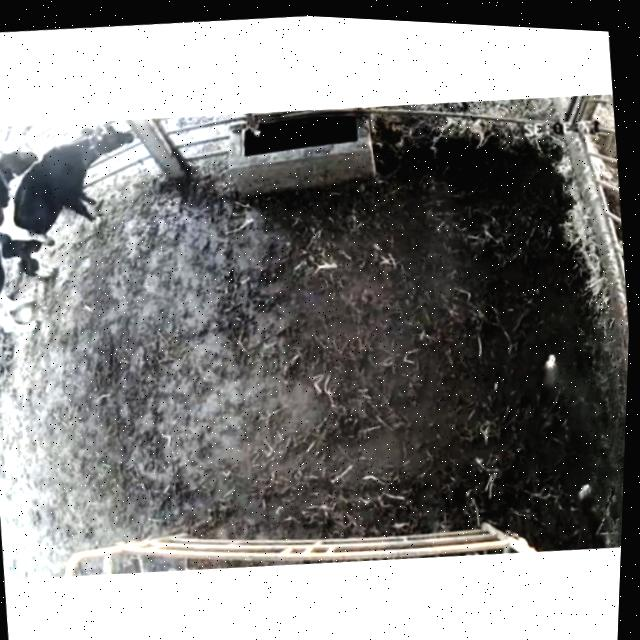ride: (0, 134, 67, 351)
